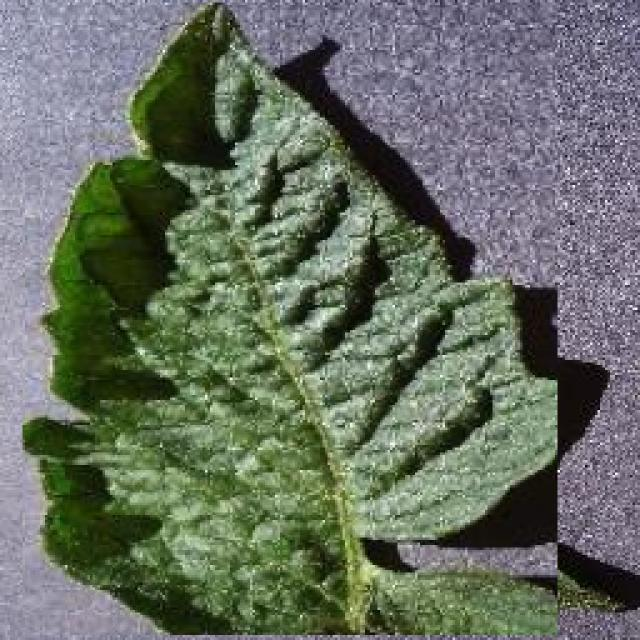Healthy: (22, 3, 558, 635)
